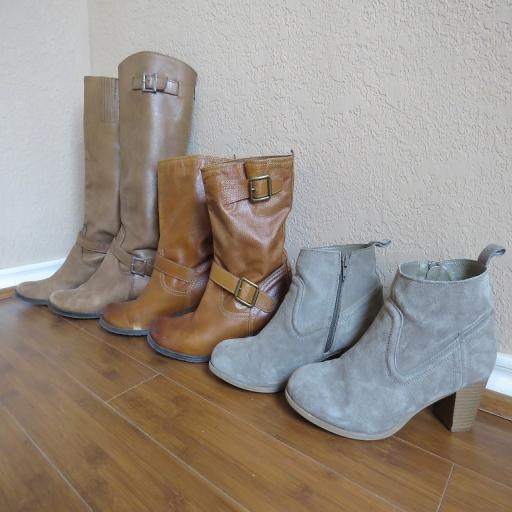boots: (286, 245, 504, 440), (48, 51, 196, 318), (148, 154, 293, 362), (209, 240, 391, 392), (15, 76, 121, 305), (100, 155, 226, 335)
